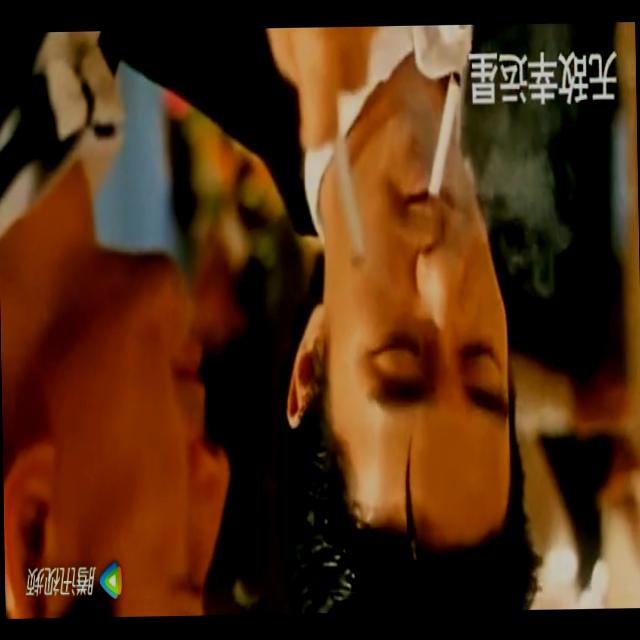smoke: (423, 70, 464, 194)
